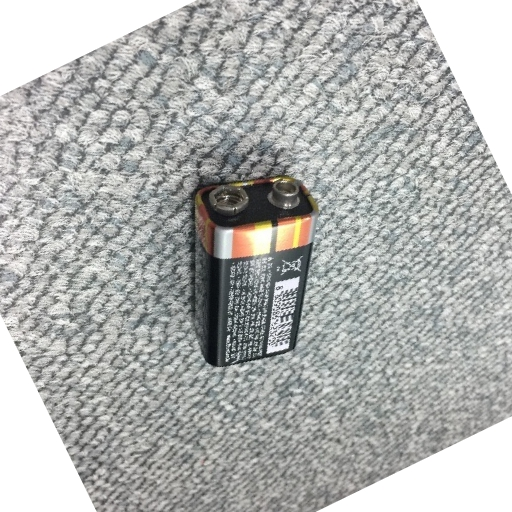Battery_3: (189, 170, 325, 375)
